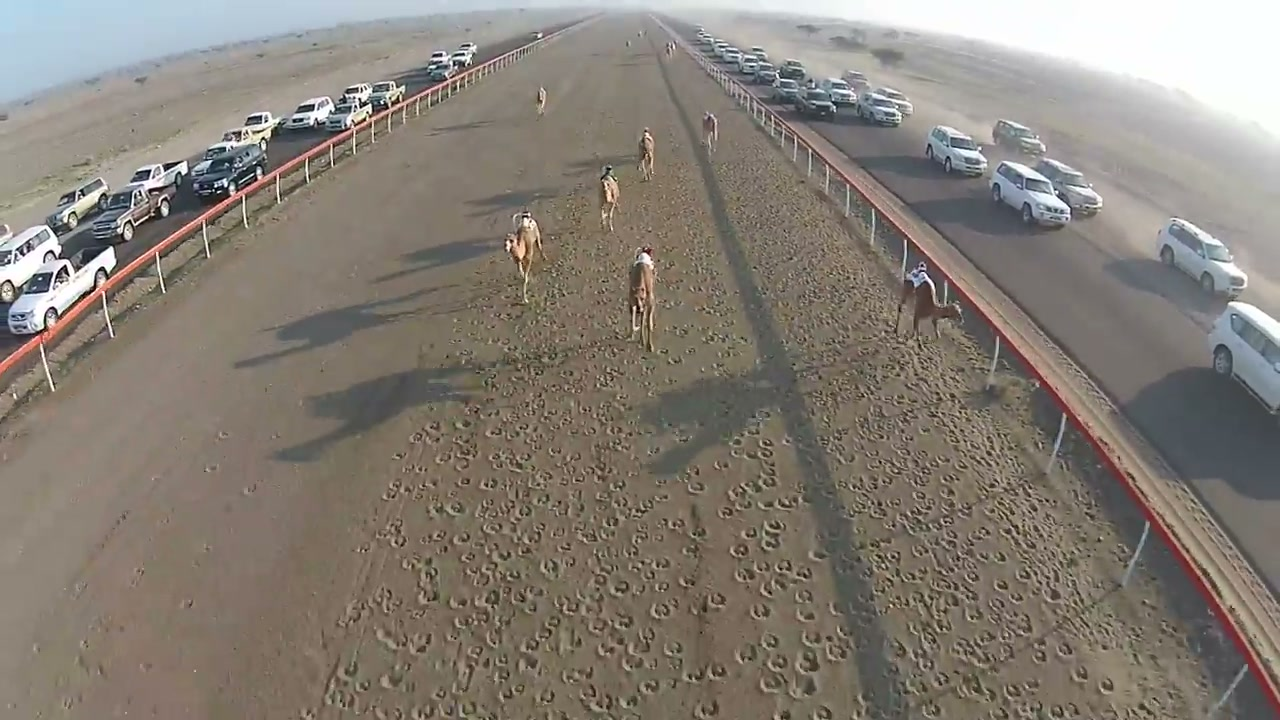animal_foot_print: (880, 337, 1148, 715), (388, 304, 591, 706), (586, 331, 733, 682)
